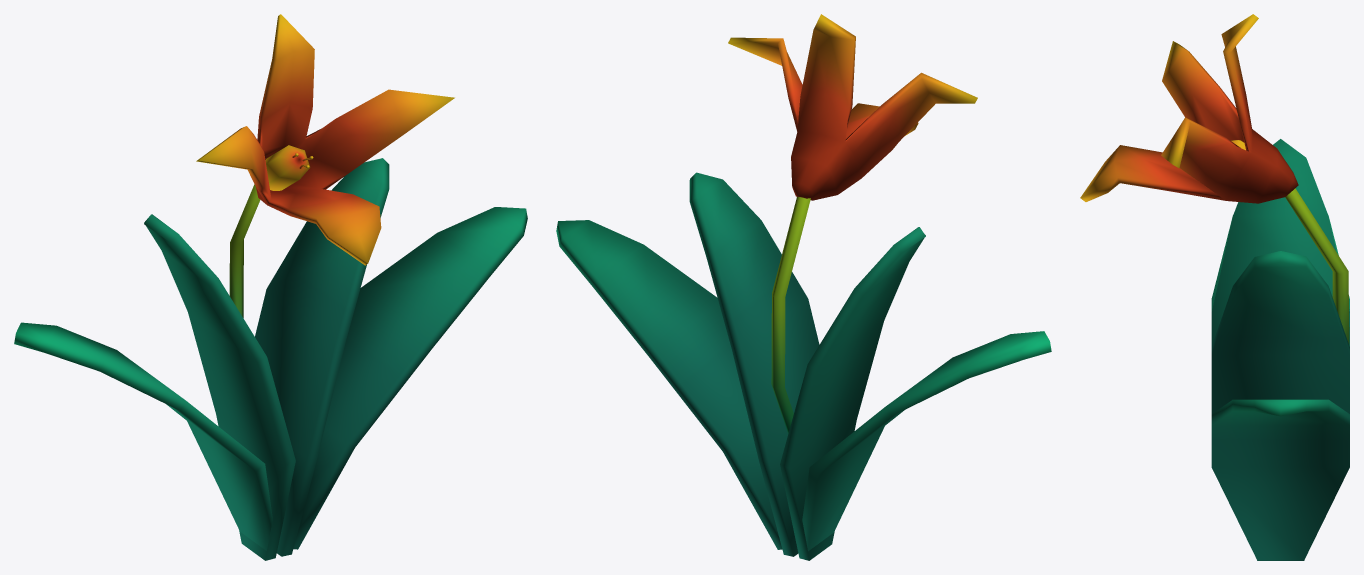
The model's file is Flower_06.fbx.
The picture shows the model from 3 angles, left to right: view 1: azimuth 30°, elevation 25°; view 2: azimuth 150°, elevation 25°; view 3: azimuth 270°, elevation 25°; orthographic projection. The views are drawn at different scales.
Parts seen in each view (by area): view 1: Flower_06; view 2: Flower_06; view 3: Flower_06.
Boxes of the visible parts, x1,y1,x2,y2 form: Flower_06: (14, 14, 527, 560); Flower_06: (556, 14, 1051, 560); Flower_06: (1080, 14, 1349, 560).
Bounding box in the file's own units: 0.6791 × 0.6886 × 0.3114.
